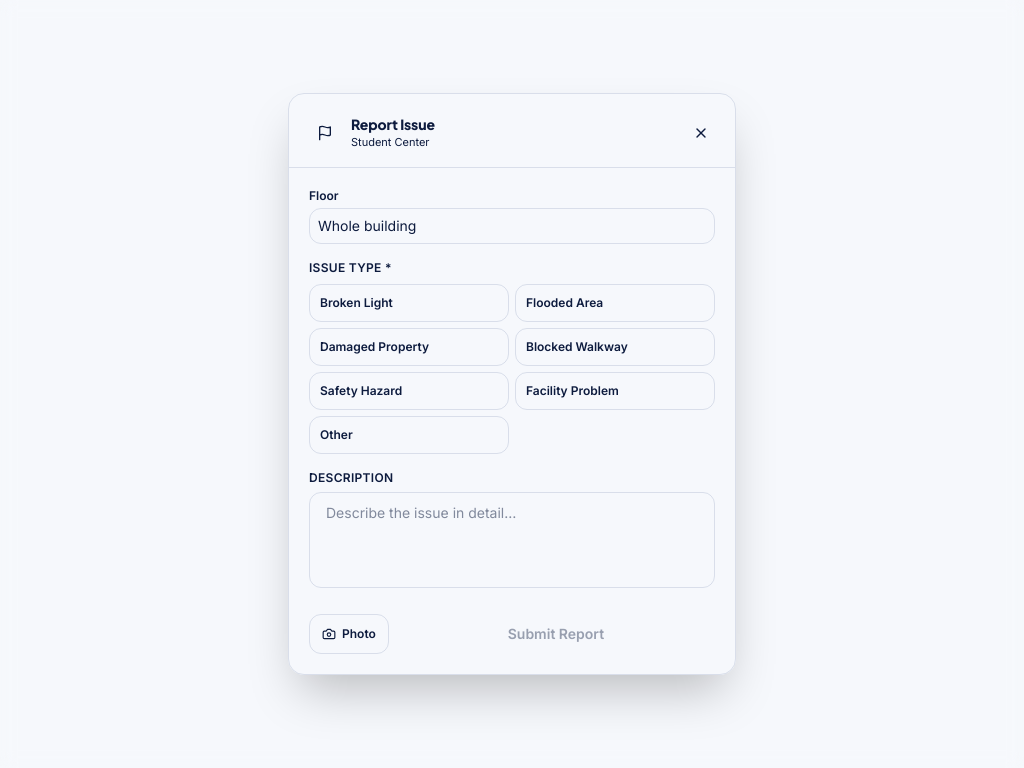
Test: student building and room reporting › makes partial photo failure visible after the report is saved
The image size is (1024, 768).
Click the radio button labelled "Other".
click(409, 435)  # box top-left (309, 416), bottom-right (509, 454)
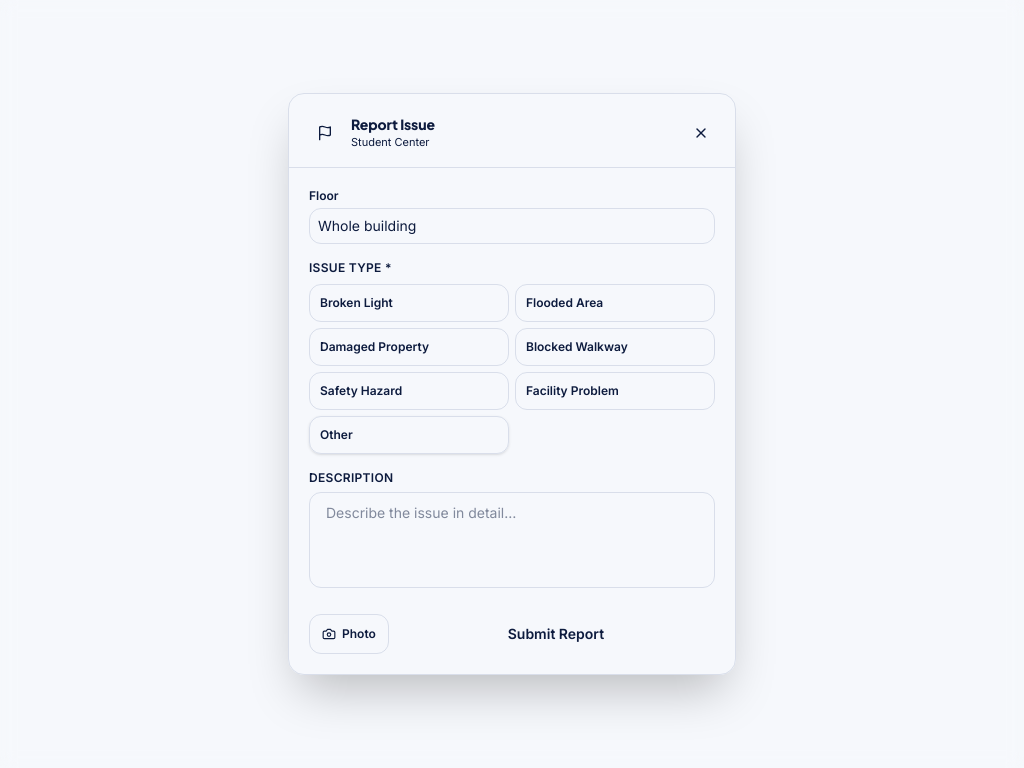
Click the button "Submit Report".
click(556, 634)  # box top-left (397, 614), bottom-right (715, 654)
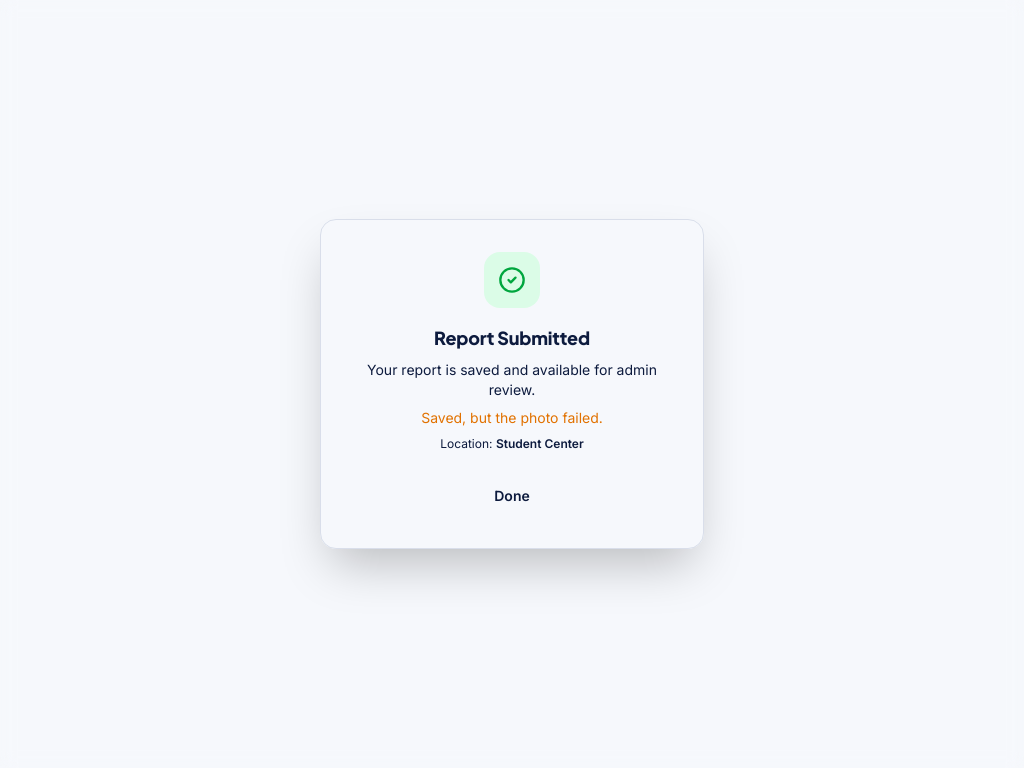
expect the message shows "photo failed": met, box top-left (421, 409), bottom-right (603, 426)
expect the dialog "Report Submitted" is shown: met, box top-left (320, 219), bottom-right (704, 549)
